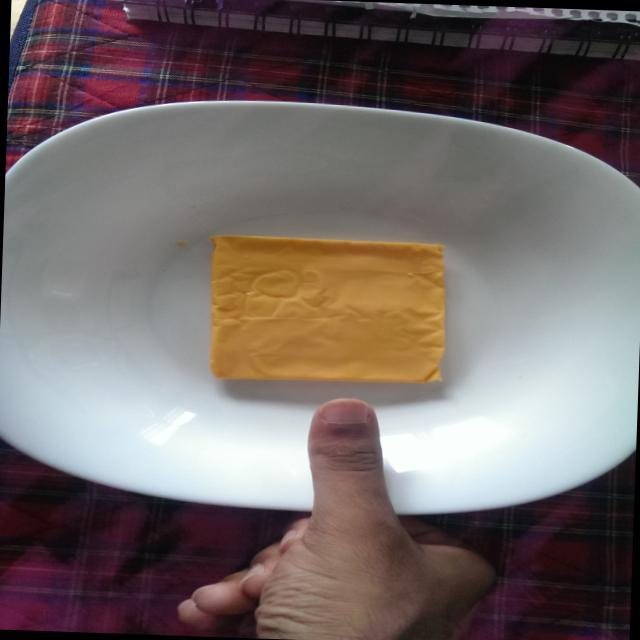Cheese: (192, 227, 463, 396)
Finger: (288, 389, 401, 494)
